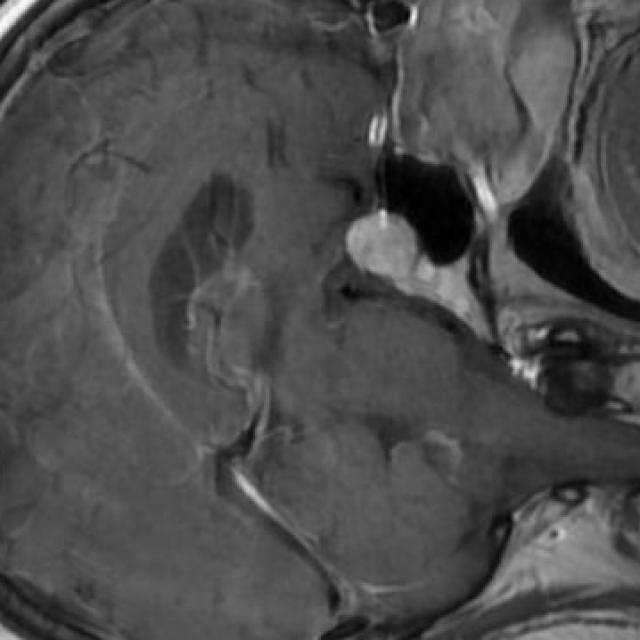pituitary: (346, 210, 419, 280)
